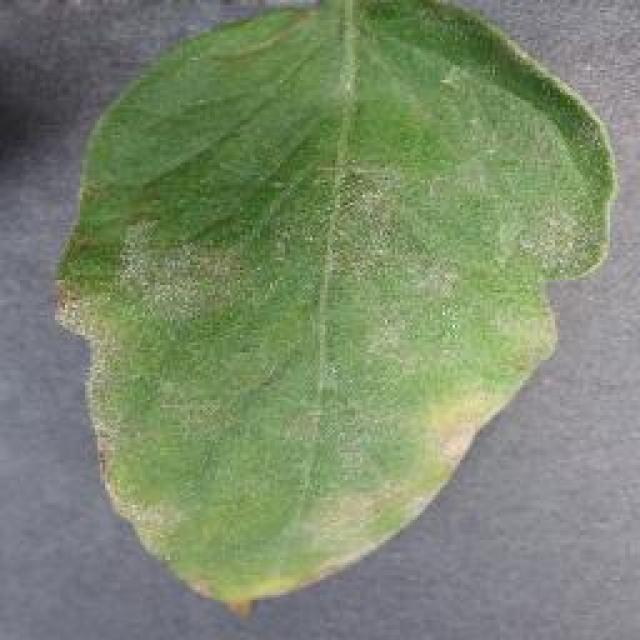Tomato Late Blight: (115, 136, 495, 556)
